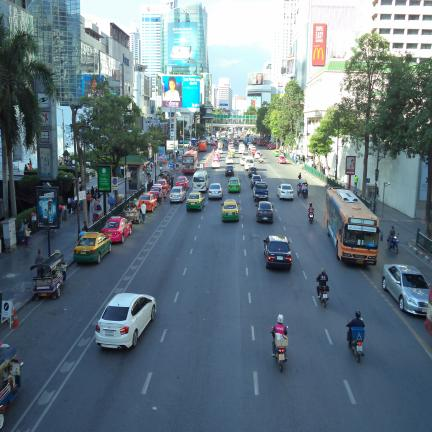bus: (325, 188, 379, 265), (182, 151, 197, 173), (199, 140, 207, 151)
car: (96, 293, 155, 348), (382, 265, 429, 315), (264, 236, 291, 269), (256, 201, 273, 223), (253, 182, 268, 201), (278, 184, 293, 200), (170, 187, 185, 202), (209, 184, 222, 199), (251, 175, 261, 188), (245, 156, 254, 170), (249, 166, 258, 177), (226, 165, 234, 176), (226, 155, 233, 164), (241, 155, 246, 165)
human: (347, 310, 364, 348), (272, 314, 287, 356), (317, 268, 328, 298), (35, 249, 44, 277), (23, 220, 30, 248), (140, 202, 146, 223), (388, 226, 395, 244), (308, 202, 314, 217), (158, 189, 162, 205), (355, 175, 358, 190), (298, 173, 301, 179)
motorbike: (346, 320, 364, 362), (275, 333, 287, 371), (387, 235, 398, 253), (320, 286, 328, 307), (309, 211, 314, 224)
taxi: (74, 233, 111, 263), (102, 217, 132, 242), (139, 192, 157, 212), (222, 200, 239, 221), (187, 192, 204, 210), (176, 176, 189, 190), (150, 185, 162, 198), (229, 178, 240, 192), (156, 179, 169, 190), (212, 157, 220, 168), (278, 155, 286, 163), (273, 150, 279, 156)
van: (193, 171, 208, 192), (245, 156, 254, 170), (239, 144, 245, 153)
